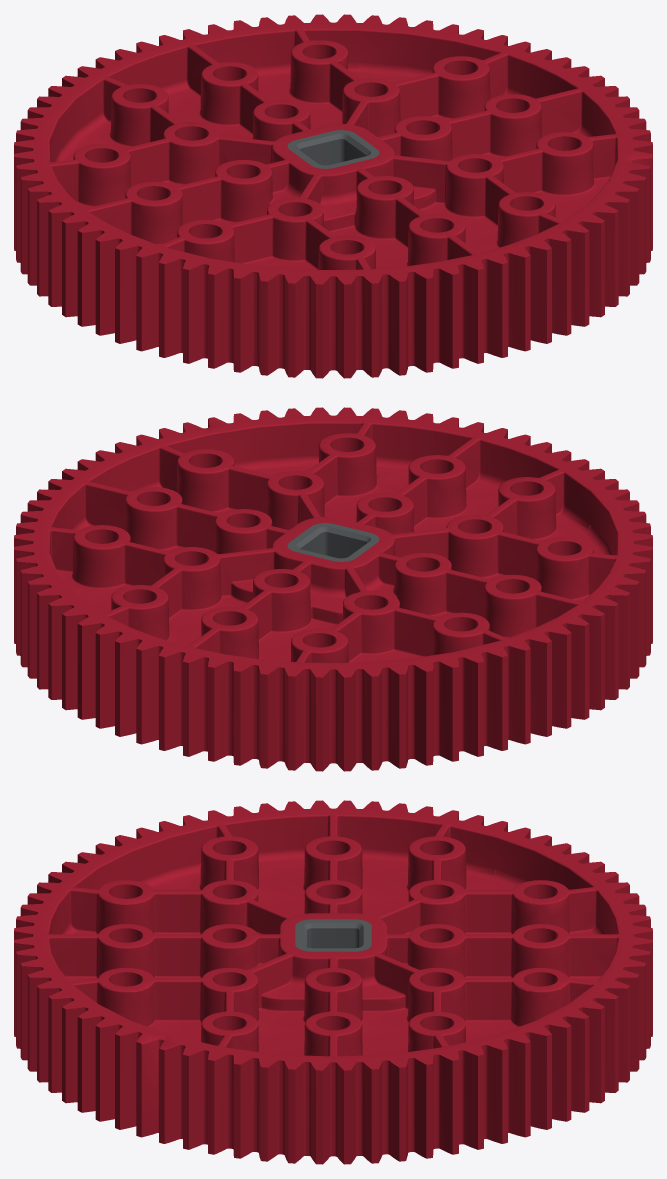
The model's file is 72T High Strength Gear v2 (6-Pack) (276-7574).glb.
3 views of the same model, one above another, from view 1: azimuth 30°, elevation 25°; view 2: azimuth 150°, elevation 25°; view 3: azimuth 270°, elevation 25° (orthographic).
Visible parts, largest first — view 1: 276-7574-001_OVERMOLD Rev4_72T 24DP Gear, 276-7573-002 Rev7; view 2: 276-7574-001_OVERMOLD Rev4_72T 24DP Gear, 276-7573-002 Rev7; view 3: 276-7574-001_OVERMOLD Rev4_72T 24DP Gear, 276-7573-002 Rev7.
Boxes of the visible parts, x1,y1,x2,y2 form: 276-7574-001_OVERMOLD Rev4_72T 24DP Gear: (14, 14, 652, 378); 276-7573-002 Rev7: (287, 130, 379, 168); 276-7574-001_OVERMOLD Rev4_72T 24DP Gear: (14, 407, 652, 771); 276-7573-002 Rev7: (287, 523, 379, 561); 276-7574-001_OVERMOLD Rev4_72T 24DP Gear: (14, 800, 652, 1164); 276-7573-002 Rev7: (295, 919, 371, 951).
Bounding box in the file's own units: 0.0783 × 0.0127 × 0.0783.
